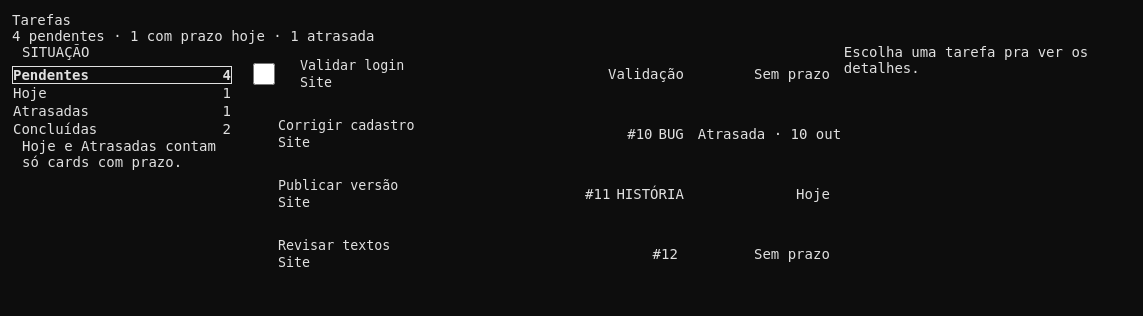
Test case: TasksScreen › renders the description as sanitized prose with a single h1 on the screen
The width and height of the screenshot is (1143, 316).
Step 1. Click the text "Corrigir cadastro" → {"x": 346, "y": 126}, box [278,118,414,133]
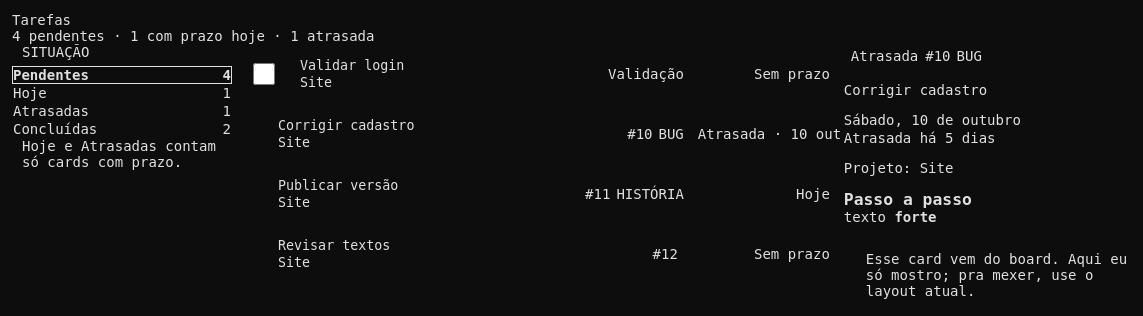
Expected: the text "forte" is shown, [894,209,937,225]
Expected: the heading "Passo a passo" is shown, [844,190,972,209]
